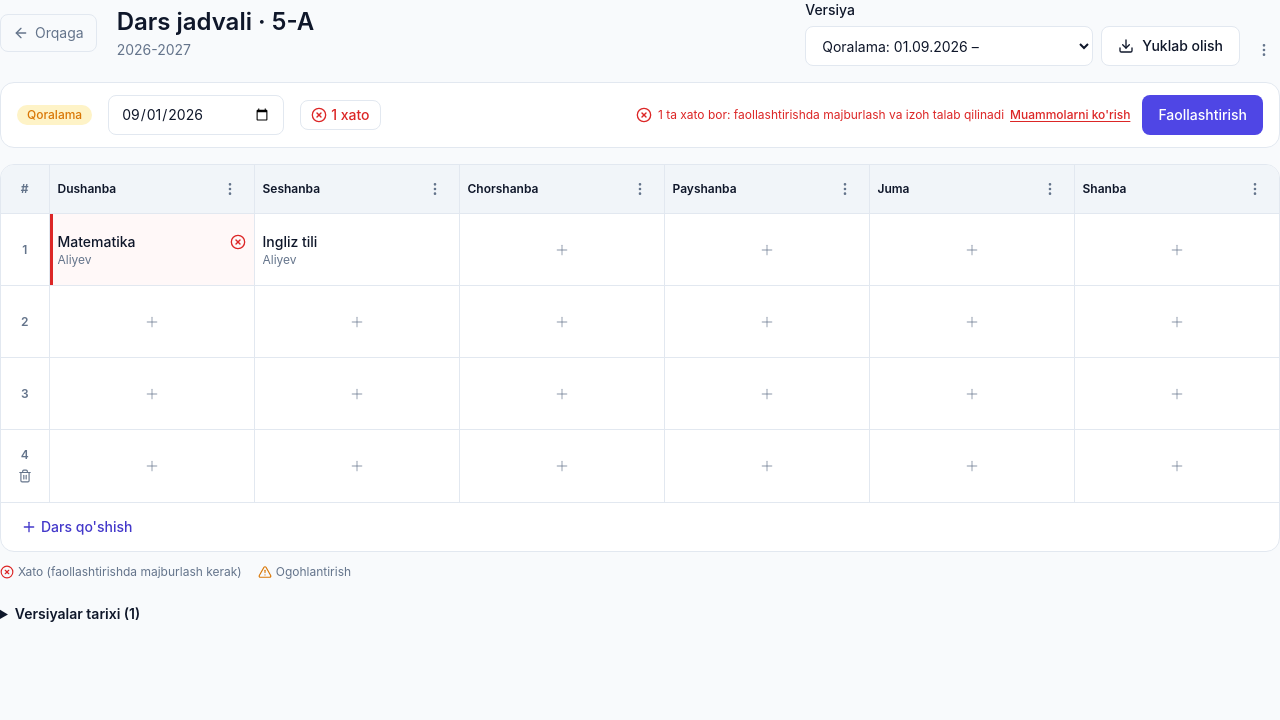
Test: ClassTimetableView: muammolar › faollashtirish yonidagi havola panelni ochadi
Click the button with test id "activate-hint-open" at (1070, 115), box [1010,107,1130,123]
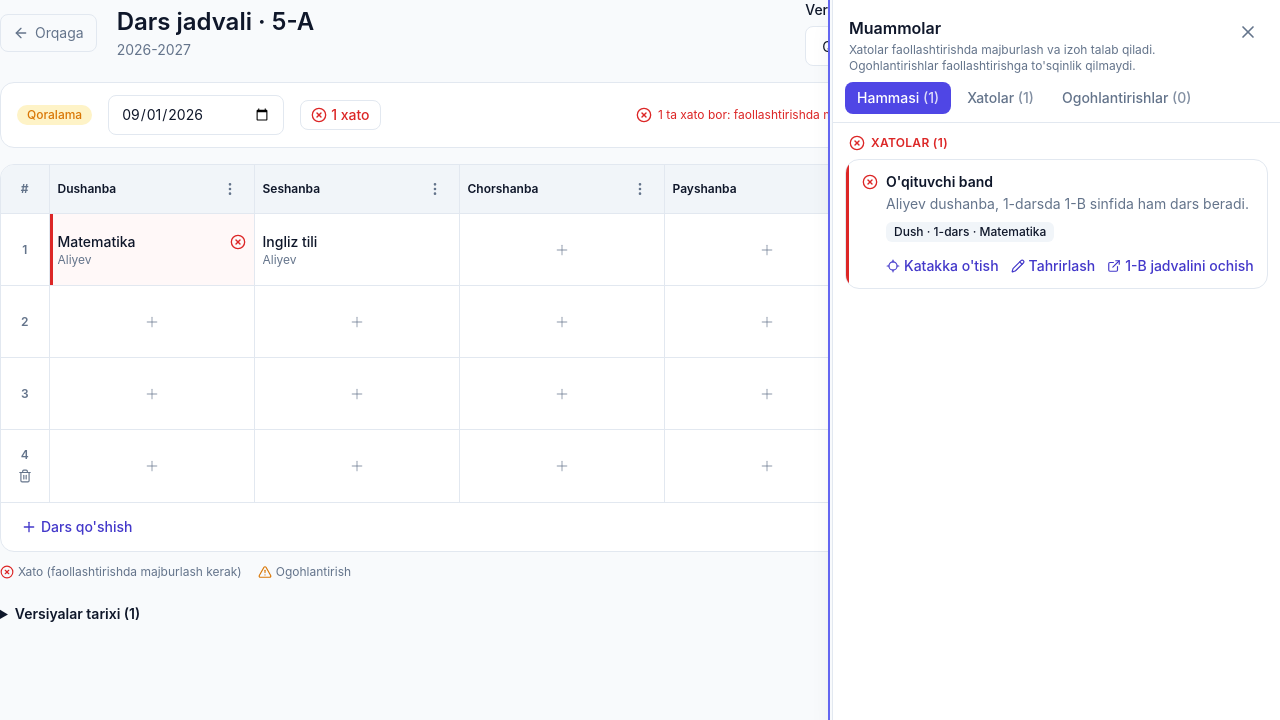
Check: the dialog with test id "issues-drawer" is shown, box [832,0,1279,719]
